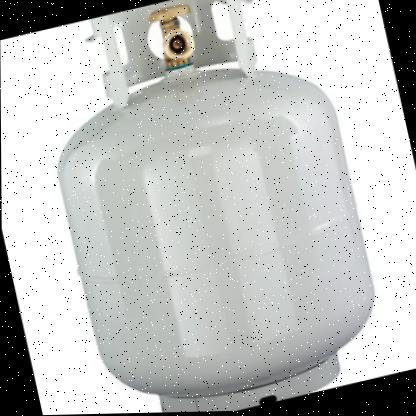gas-tank: (14, 0, 408, 415)
